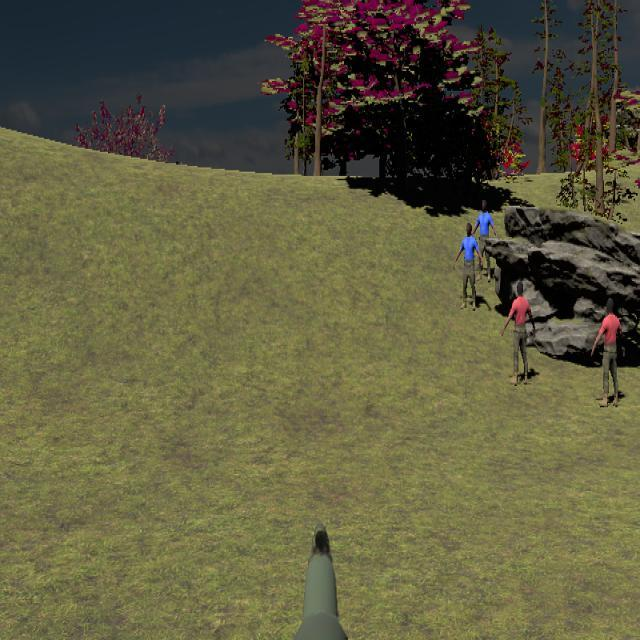Human: (591, 297, 625, 408), (501, 281, 536, 384), (454, 222, 483, 309), (471, 198, 499, 284)
